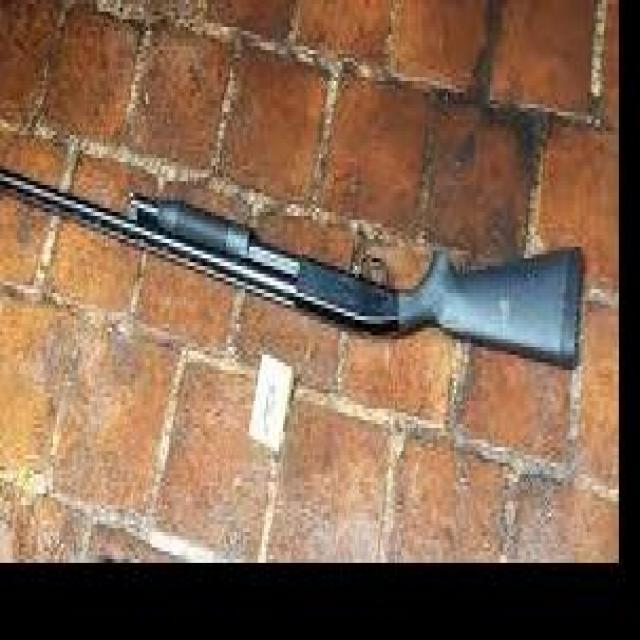weapon: (0, 166, 587, 370)
